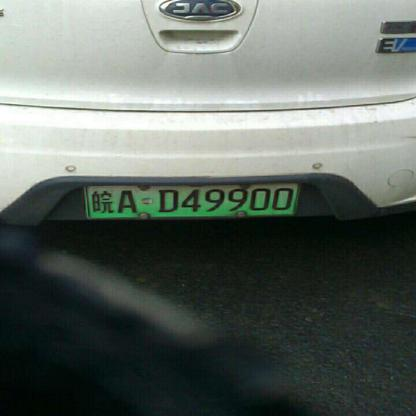lp: (84, 182, 301, 218)
